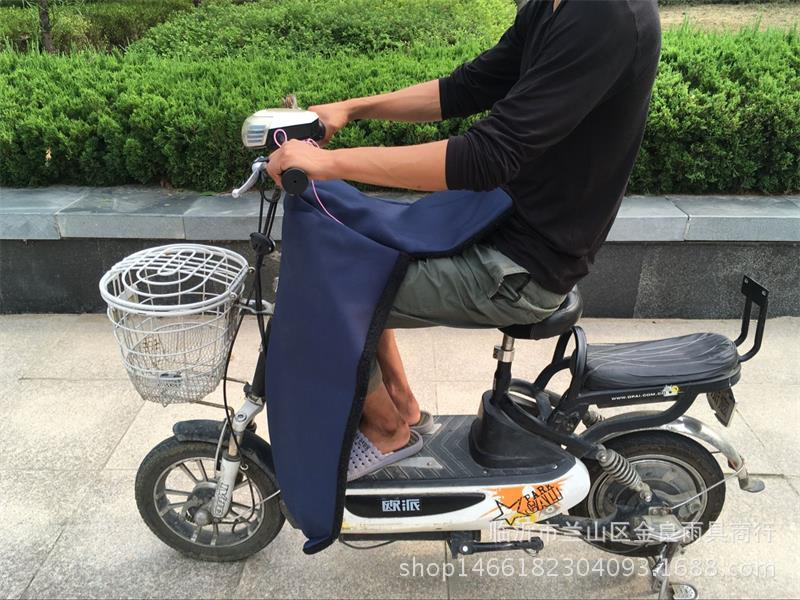电动车: (73, 90, 797, 598)
